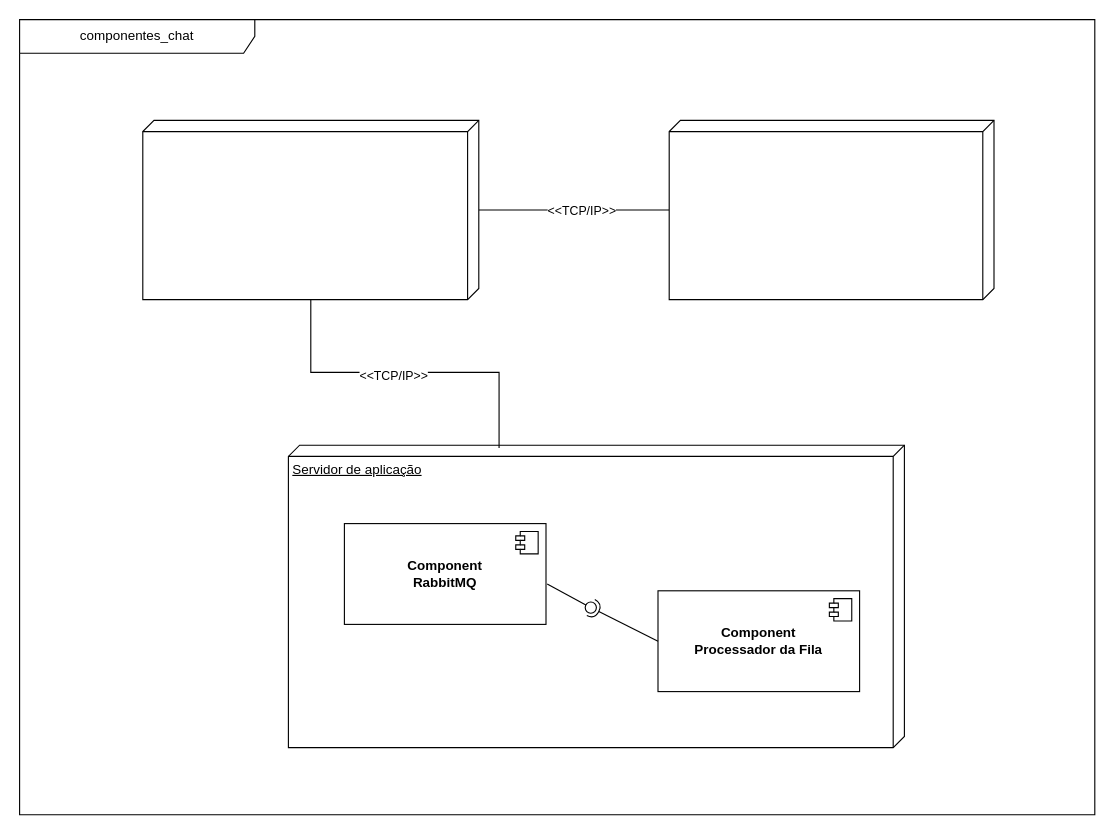
Image size: 1114x834. Some labels were removed from this diagram. Here are the shapes that lost their labels. From the top down, the centre of each, then its label:
(310,209): Servidor de Firewall
(831,209): Servidor de comunicação
